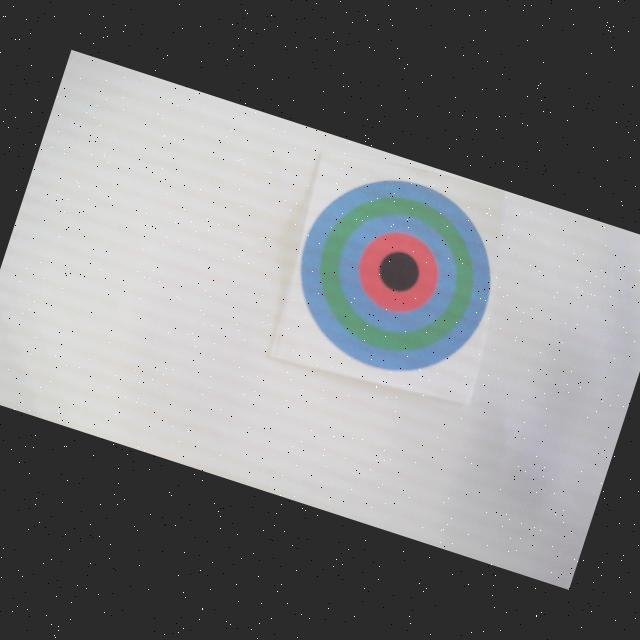COGNITIVE: (276, 156, 518, 394)
